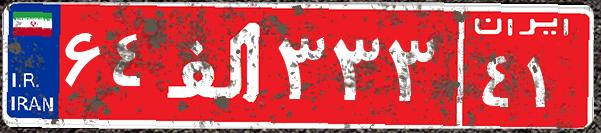1: (525, 38, 570, 115)
3: (385, 28, 445, 110), (273, 28, 330, 110), (330, 28, 385, 110)
4: (475, 38, 525, 113), (110, 28, 158, 105)
6: (57, 26, 110, 107)
الف: (158, 15, 273, 115)
